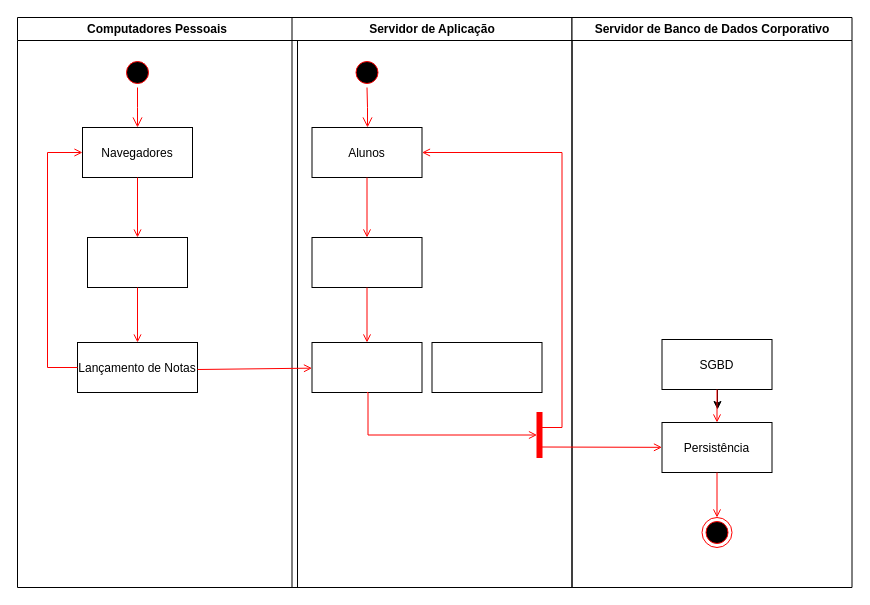
Some shapes in this 870 by 605 pixel diagram are drawn without their labels. The shapes that lost their labels are listed below. From the top down, each one's centre as x and y in pixels, then its label:
the point at 137,262: HTTPS
the point at 366,262: Professores
the point at 366,367: Turmas
the point at 486,367: dispatch command worker thread
